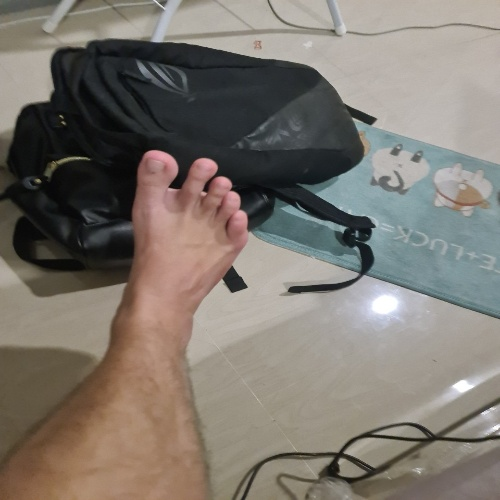3: (136, 149, 178, 200)
Top_Foot: (109, 150, 249, 361)
